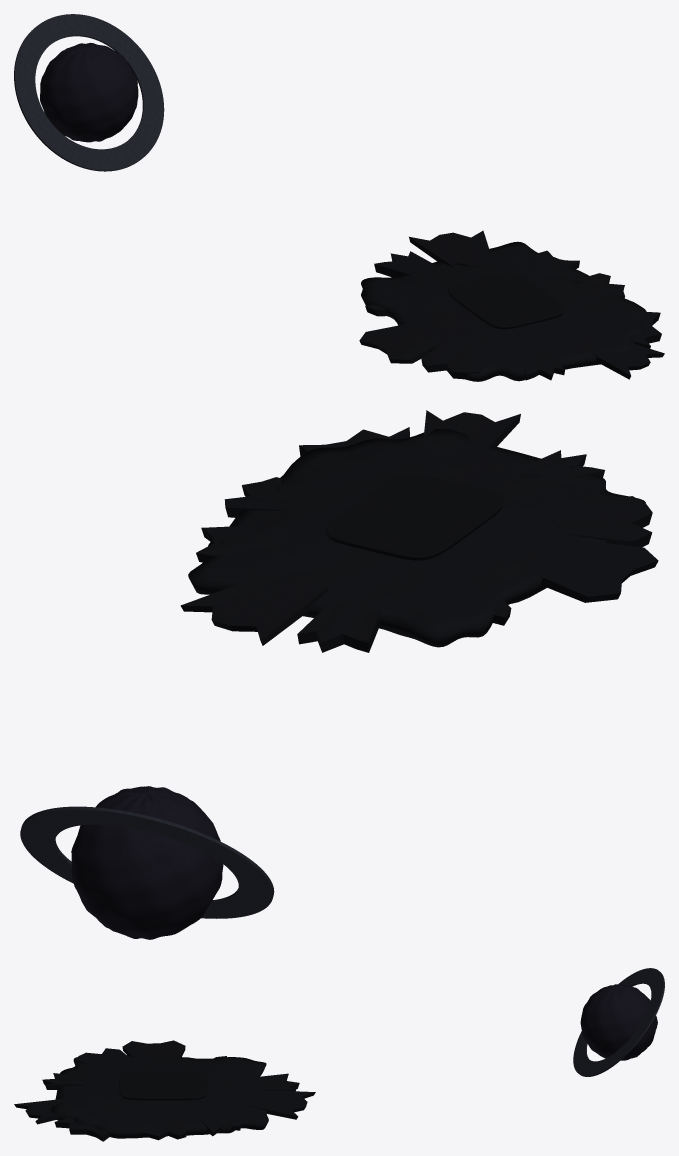
File: world-galaxy.glb
3 views of the same model, one above another, from view 1: azimuth 30°, elevation 25°; view 2: azimuth 150°, elevation 25°; view 3: azimuth 270°, elevation 25° (orthographic). The views are drawn at different scales.
Parts seen in each view (by area): view 1: BJ8_World_Galaxy_Galaxy_Basalt_Rock, Galaxy_Distant_Planet_Ring, Galaxy_Distant_Ridged_Planet, Galaxy_Quiet_Obsidian_Platform; view 2: BJ8_World_Galaxy_Galaxy_Basalt_Rock, Galaxy_Distant_Ridged_Planet, Galaxy_Quiet_Obsidian_Platform, Galaxy_Distant_Planet_Ring; view 3: BJ8_World_Galaxy_Galaxy_Basalt_Rock, Galaxy_Distant_Ridged_Planet, Galaxy_Quiet_Obsidian_Platform, Galaxy_Distant_Planet_Ring.
Boxes of the visible parts, x1,y1,x2,y2 form: BJ8_World_Galaxy_Galaxy_Basalt_Rock: (359,230,664,381); Galaxy_Distant_Planet_Ring: (14,14,164,171); Galaxy_Distant_Ridged_Planet: (40,42,138,142); Galaxy_Quiet_Obsidian_Platform: (448,273,564,329); BJ8_World_Galaxy_Galaxy_Basalt_Rock: (180,410,658,652); Galaxy_Distant_Ridged_Planet: (71,786,223,939); Galaxy_Quiet_Obsidian_Platform: (325,474,504,560); Galaxy_Distant_Planet_Ring: (20,806,274,918); BJ8_World_Galaxy_Galaxy_Basalt_Rock: (14,1040,315,1141); Galaxy_Distant_Ridged_Planet: (580,984,657,1060); Galaxy_Quiet_Obsidian_Platform: (119,1070,207,1100); Galaxy_Distant_Planet_Ring: (573,968,664,1076).
Size of the model in its own units: 25.45 by 8.92 by 60.
Materials: 4 (4 with a texture image).
